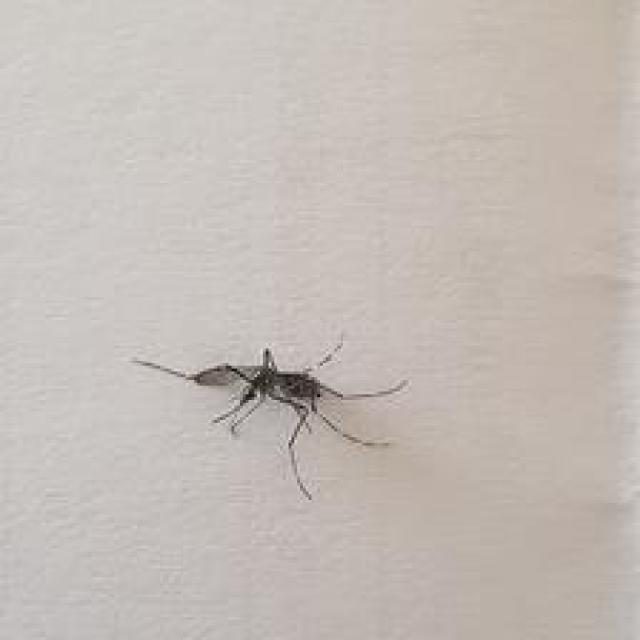Aedes albopictus: (130, 330, 410, 501)
